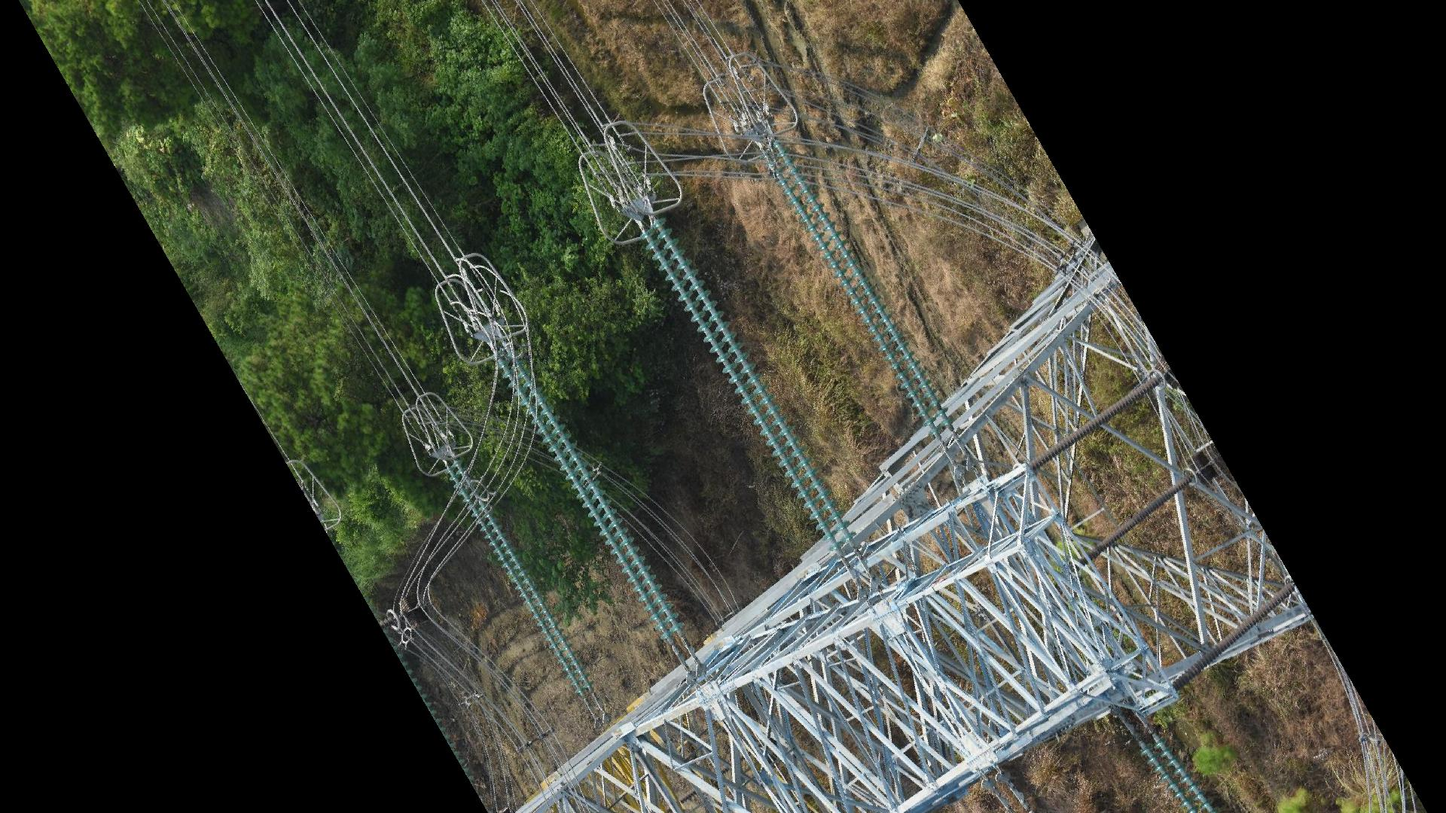insulator: (637, 212, 859, 555), (492, 340, 688, 645), (762, 142, 955, 437), (441, 454, 596, 696), (1172, 580, 1297, 693), (1025, 371, 1162, 473), (1084, 471, 1194, 564), (1137, 737, 1221, 813)
